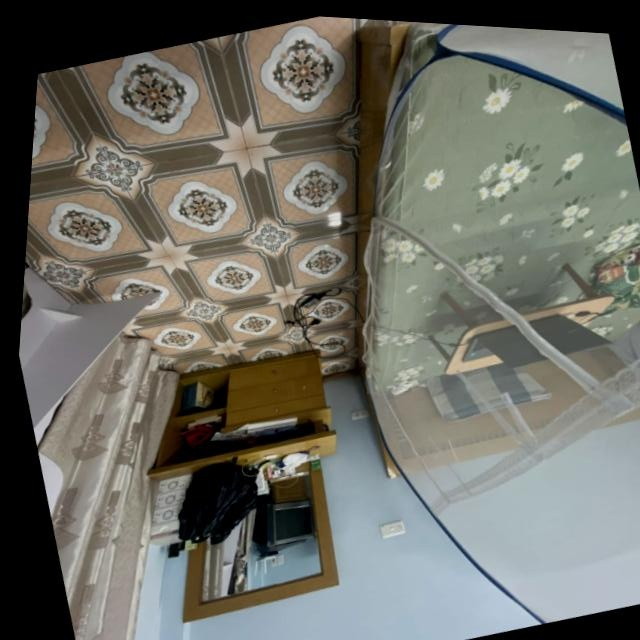outlet: (348, 409, 369, 423)
